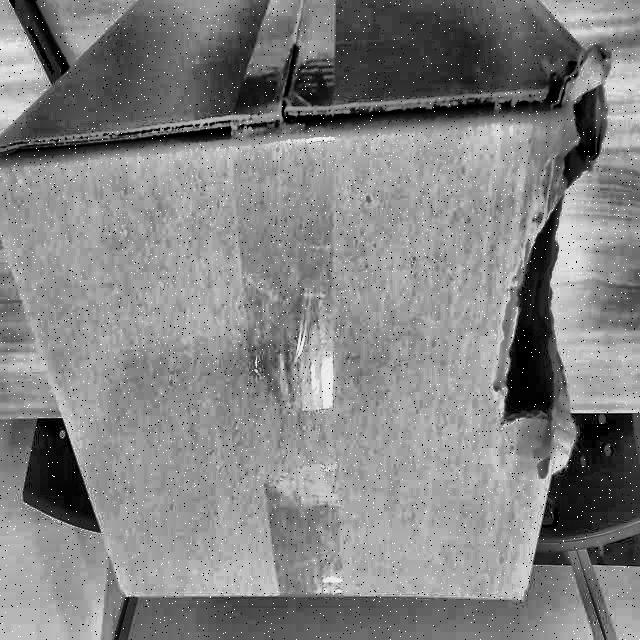box: (1, 1, 625, 609)
hole: (491, 55, 609, 453)
